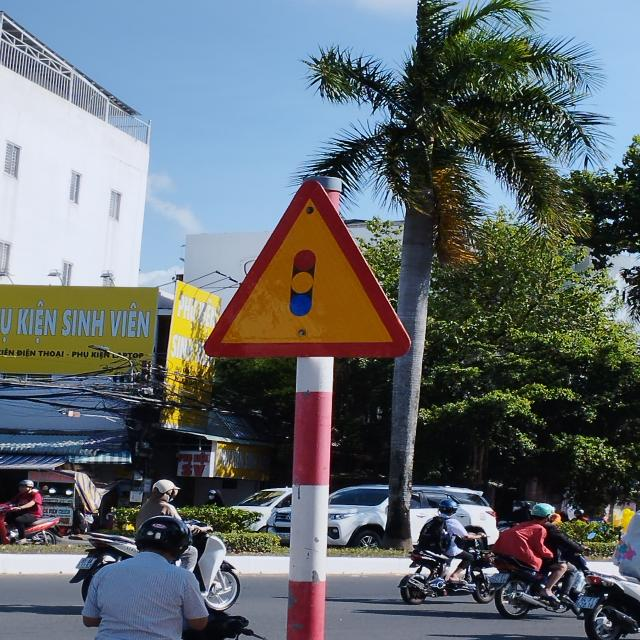Duong_Co_Go_Giam_Toc: (202, 178, 411, 358)
